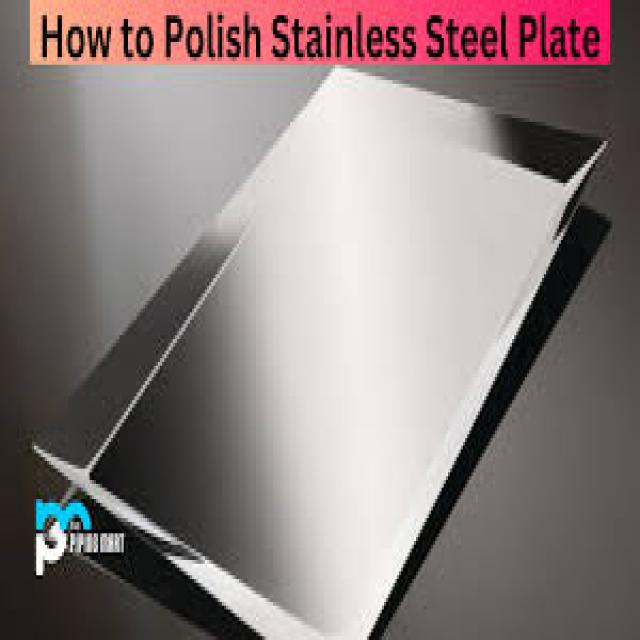Dry: (51, 72, 608, 610)
